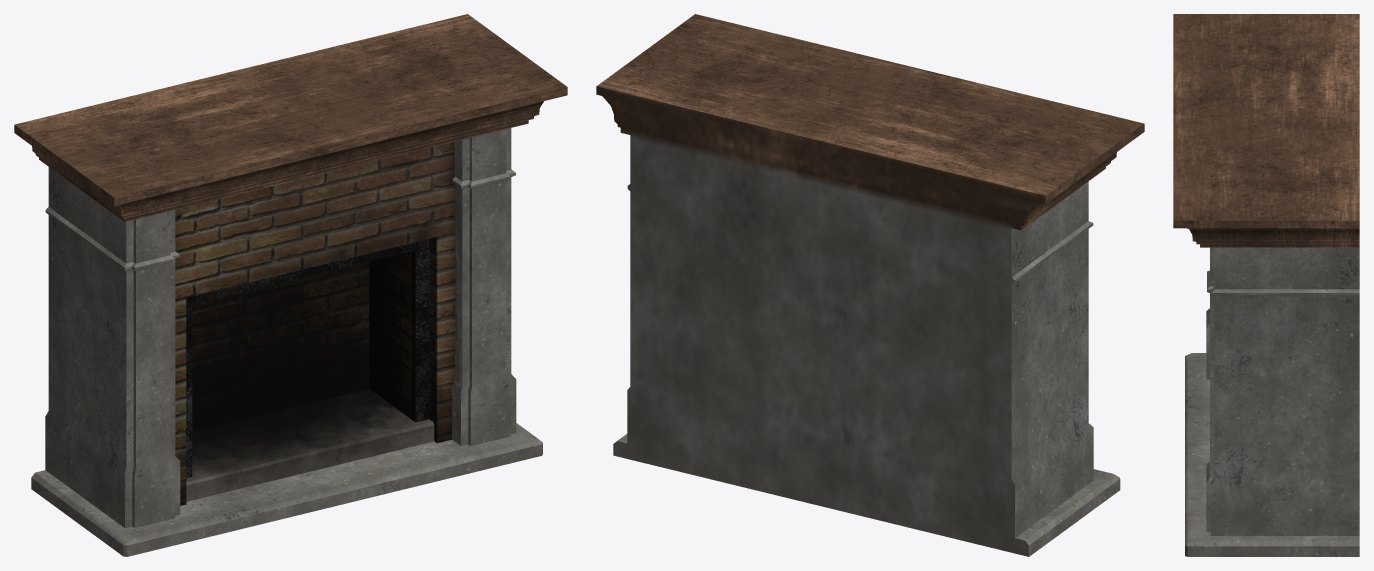
Rendered from fireplace.glb.
The picture shows the model from 3 angles, left to right: view 1: azimuth 30°, elevation 25°; view 2: azimuth 150°, elevation 25°; view 3: azimuth 270°, elevation 25°; orthographic projection. The views are drawn at different scales.
Visible parts, largest first — view 1: fireplace, fireplace_fireplace_0.001; view 2: fireplace, fireplace_fireplace_0.001; view 3: fireplace, fireplace_fireplace_0.001.
Boxes of the visible parts, x1,y1,x2,y2 form: fireplace: (31, 128, 542, 556); fireplace_fireplace_0.001: (14, 14, 567, 505); fireplace: (596, 86, 1120, 556); fireplace_fireplace_0.001: (597, 14, 1144, 230); fireplace: (1185, 247, 1359, 556); fireplace_fireplace_0.001: (1173, 14, 1359, 247).
Size of the model in its own units: 18.38 by 14.28 by 7.
Materials: 1 (1 with a texture image).
